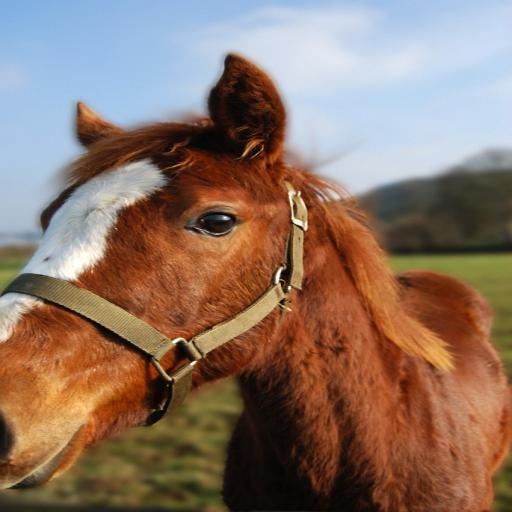horse: (0, 48, 512, 512)
